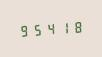eight: (70, 18, 82, 34)
five: (31, 21, 43, 37)
four: (44, 20, 56, 36)
nine: (18, 22, 30, 38)
one: (57, 19, 69, 35)
